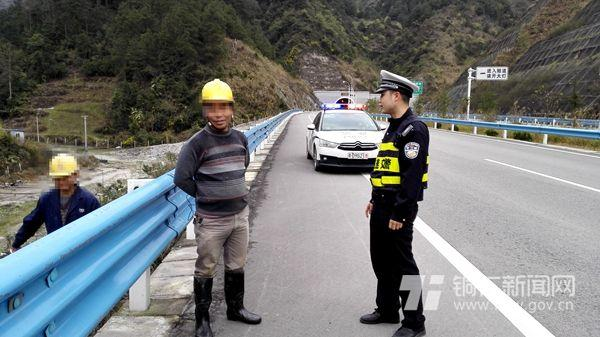helmet: (201, 79, 236, 104), (49, 153, 81, 178)
